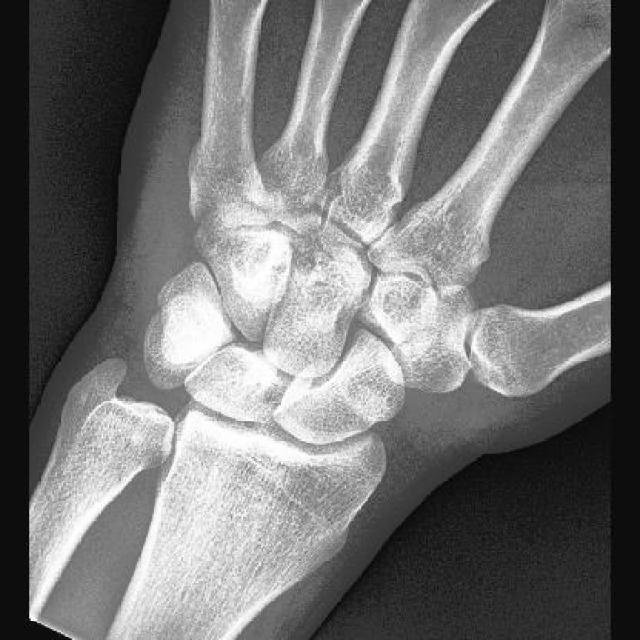bone: (368, 255, 437, 331)
